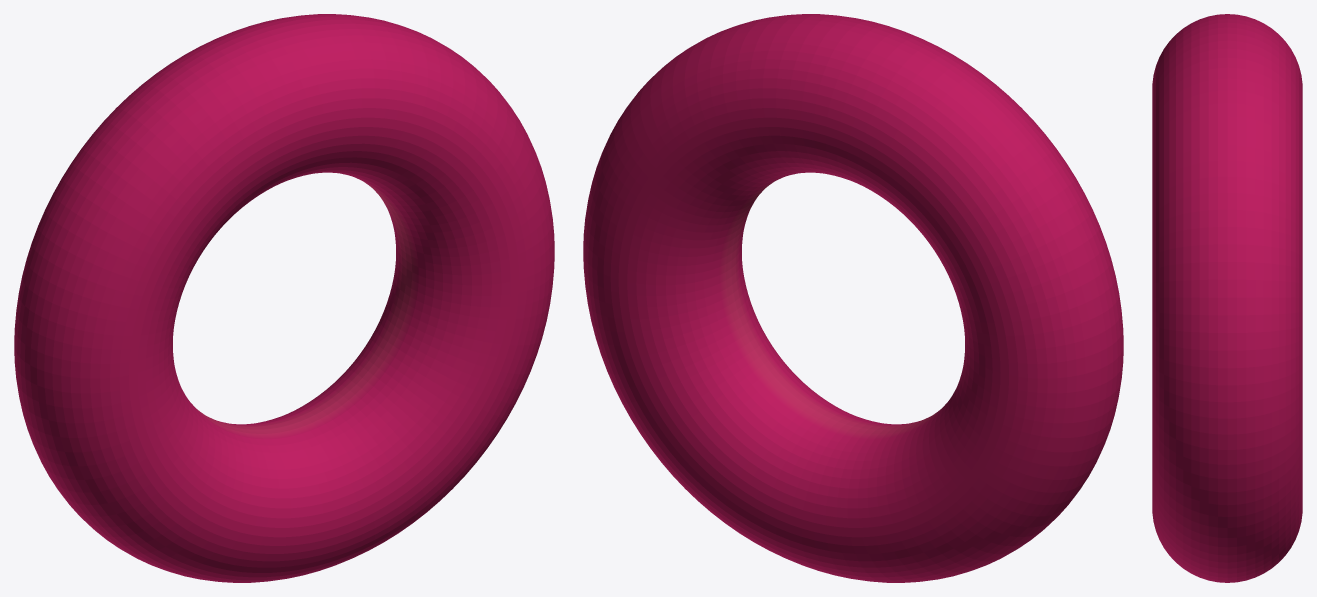
3 renders of one model, left to right at view 1: azimuth 30°, elevation 25°; view 2: azimuth 150°, elevation 25°; view 3: azimuth 270°, elevation 25°, orthographic. The views are drawn at different scales.
Visible parts, largest first — view 1: world; view 2: world; view 3: world.
Boxes of the visible parts, x1,y1,x2,y2 form: world: (14,14,554,582); world: (583,14,1123,582); world: (1152,14,1302,582).
Size of the model in its own units: 31.73 by 31.73 by 8.38.
